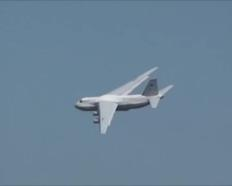aircraft: (75, 64, 174, 136)
